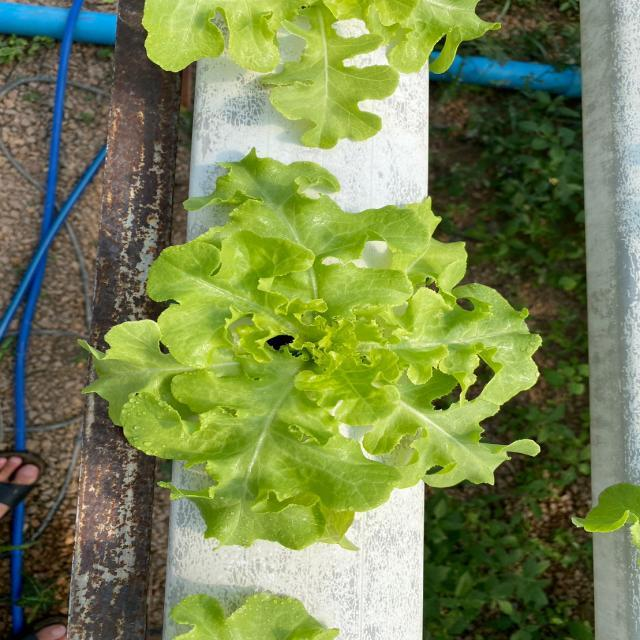Lettuce-Not-Ready-to-Harvest: (89, 152, 540, 548), (145, 0, 499, 147)
